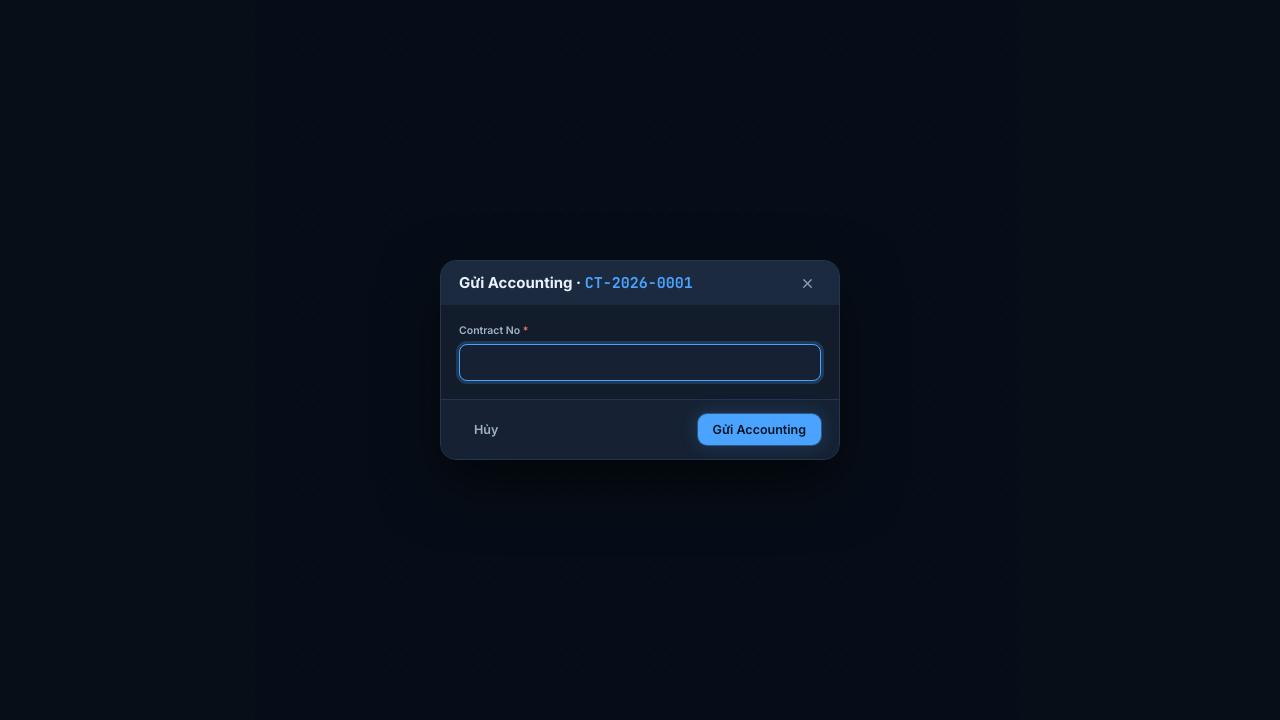
Test: SendAccountingModal (FR-11 — Document No) › surfaces a server 409 duplicate in the alert (stays open)
Type "26-CC-99-CT" into the field.
click(640, 363); type("26-CC-99-CT")  # box x1=459 y1=344 x2=821 y2=381
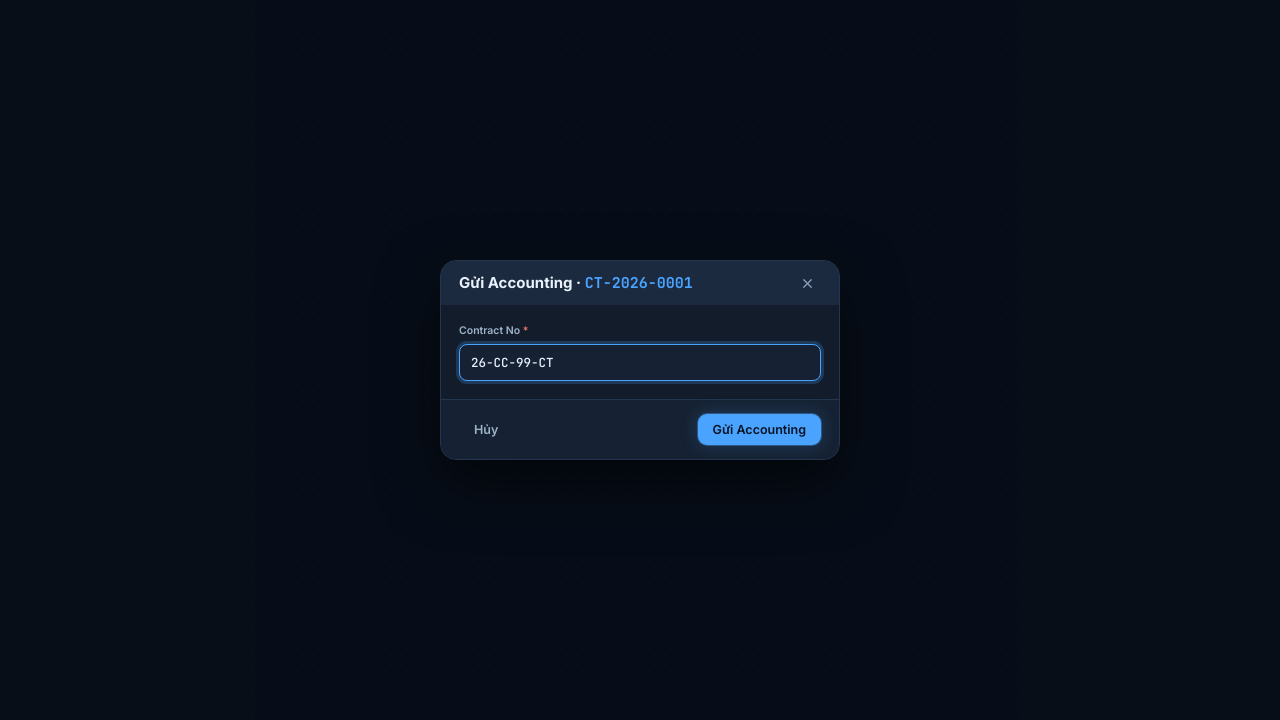
Click the button "Gửi Accounting".
click(759, 430)  # box x1=698 y1=414 x2=821 y2=445
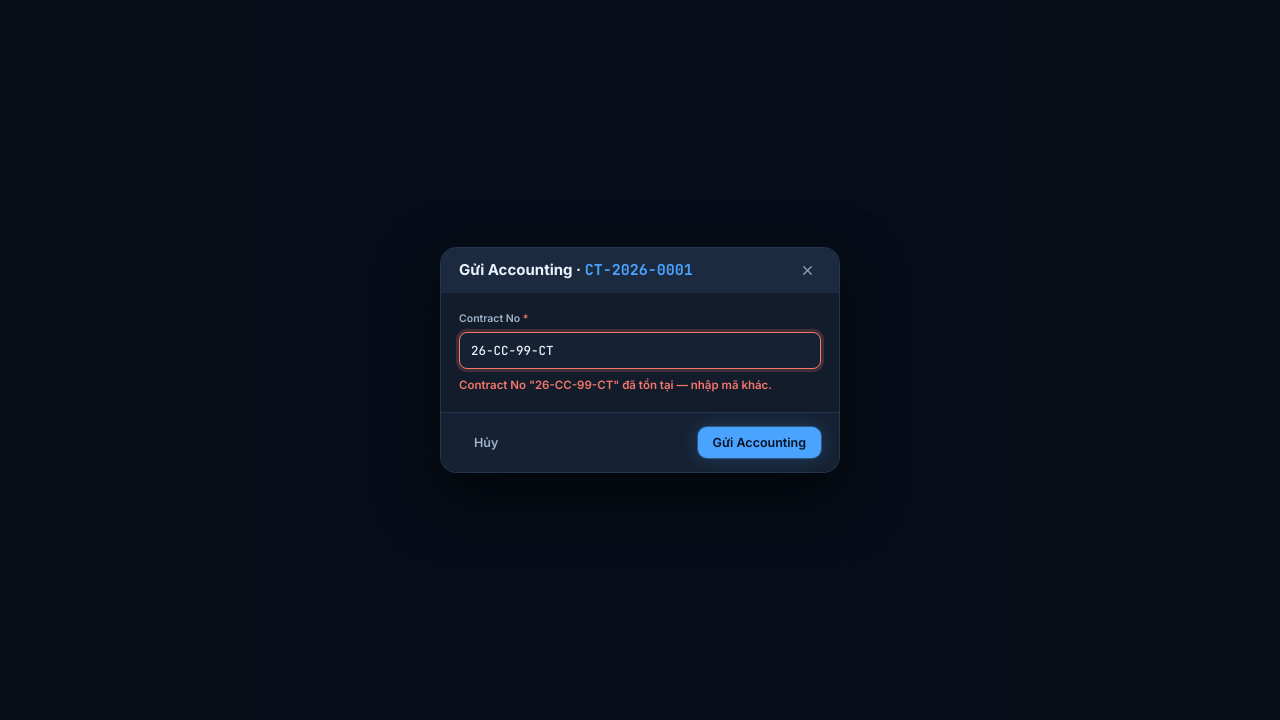
Result: the message shows "đã tồn tại" at x1=459 y1=378 x2=772 y2=392
